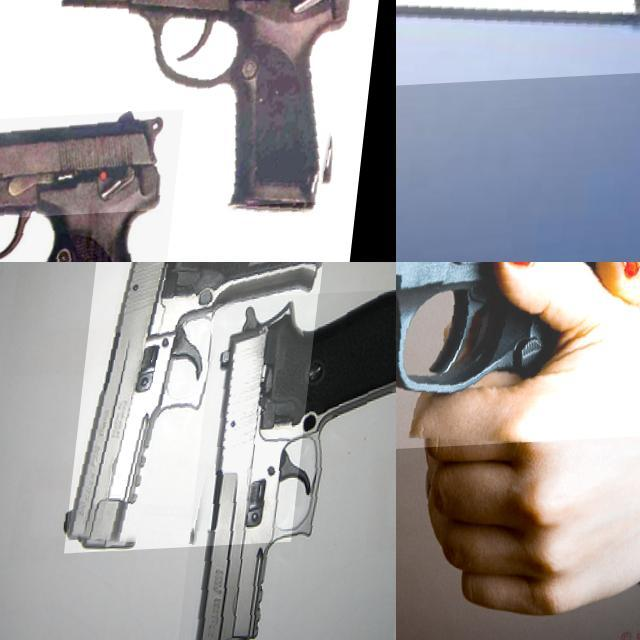-: (396, 0, 640, 121)
gun-knife-thesis - v11 Yolov5 augmented: (0, 0, 374, 232), (74, 262, 335, 555), (188, 293, 396, 640), (396, 262, 640, 458), (0, 114, 190, 262)
